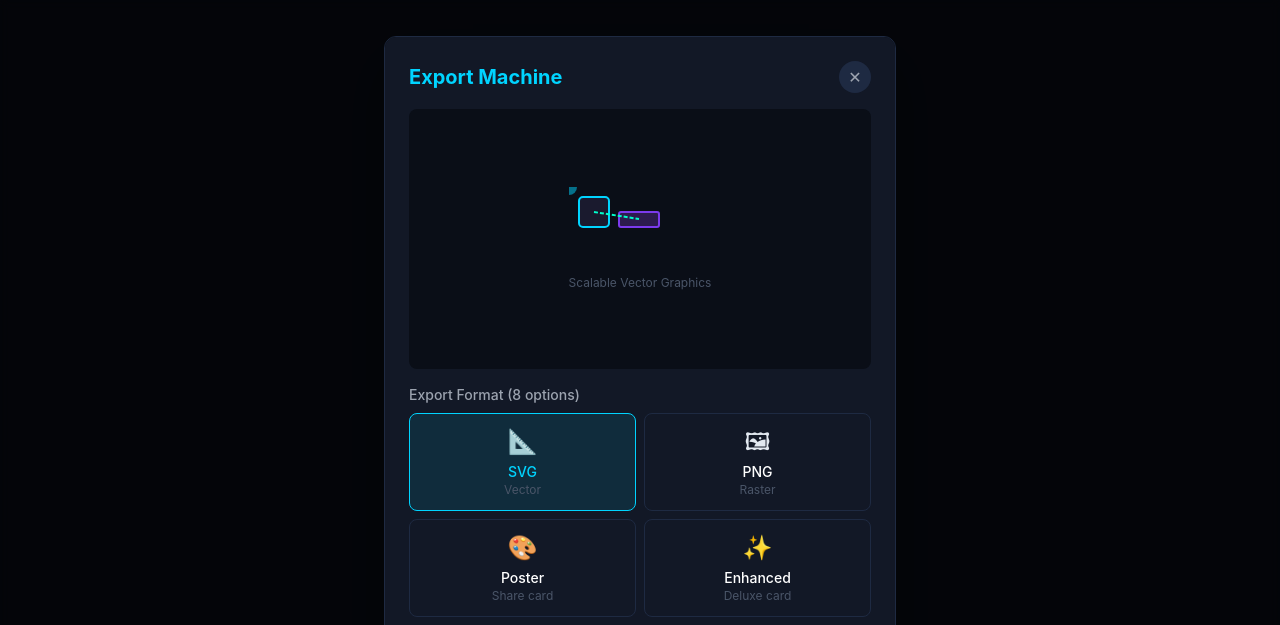
Test: ExportModal › Round 115: Custom Dimensions › shows error for width below 400px
Click the tab "🎨 Poster Share card" at (522, 568), box [409,519,636,617]
(page scrolled)
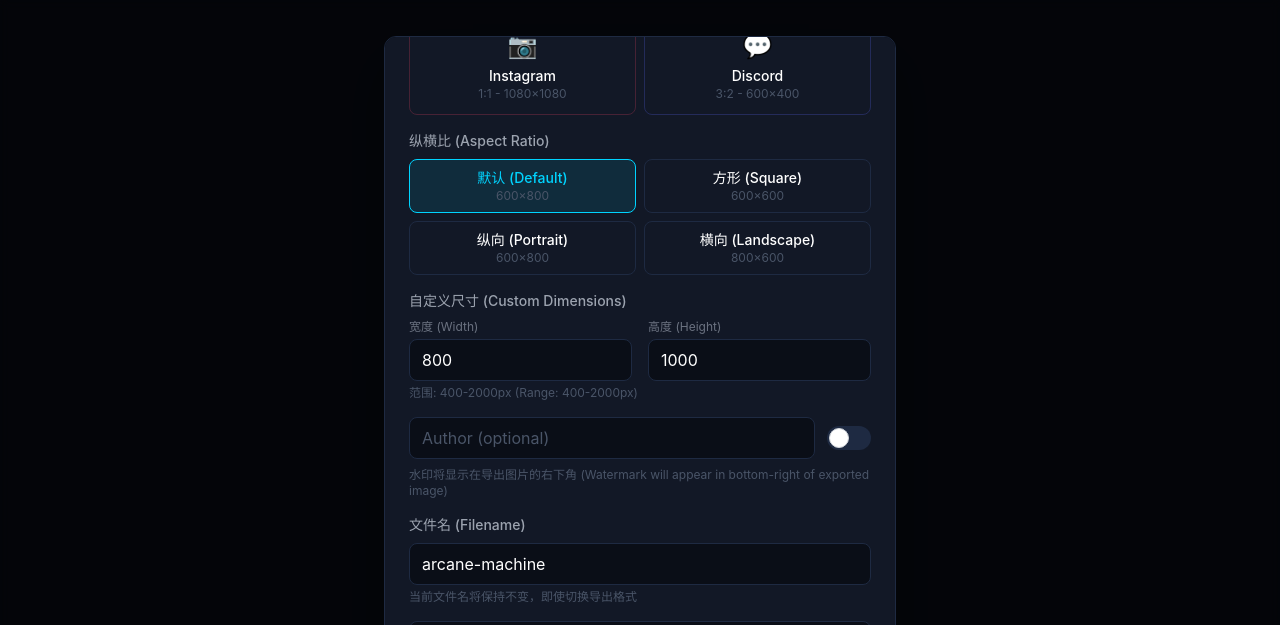
Type "350" into the number field named "Custom width" at (520, 360), box [409,339,632,381]
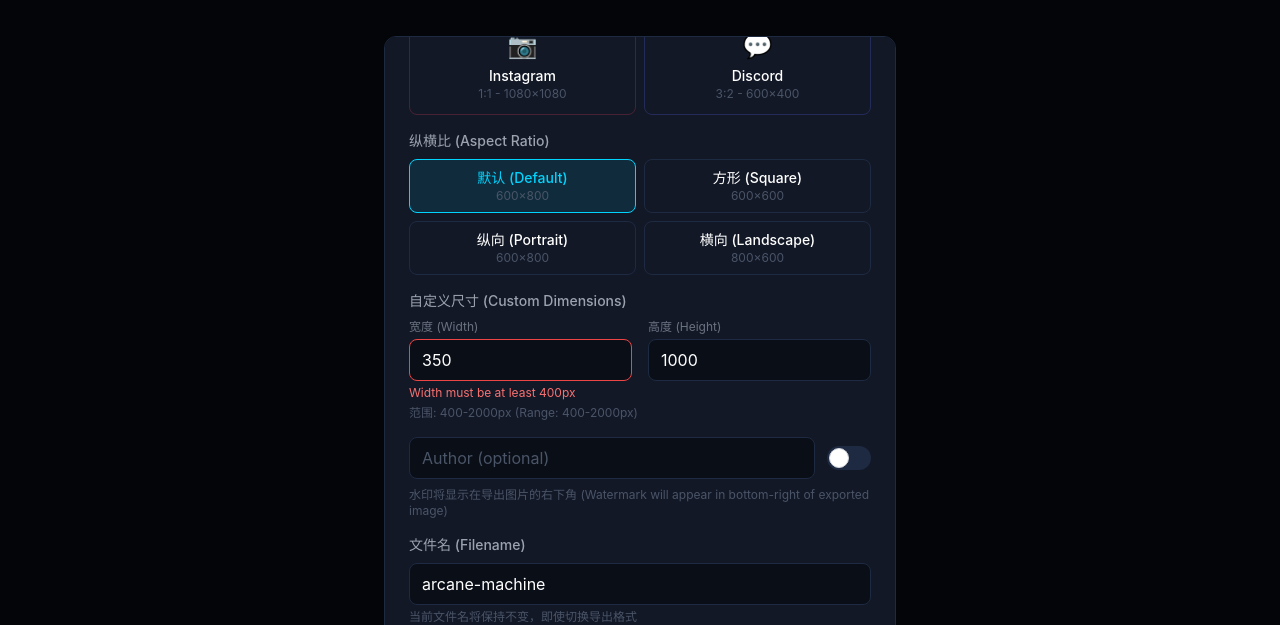
Now the text "Width must be at least 400px" is shown, box [409,385,576,400]
